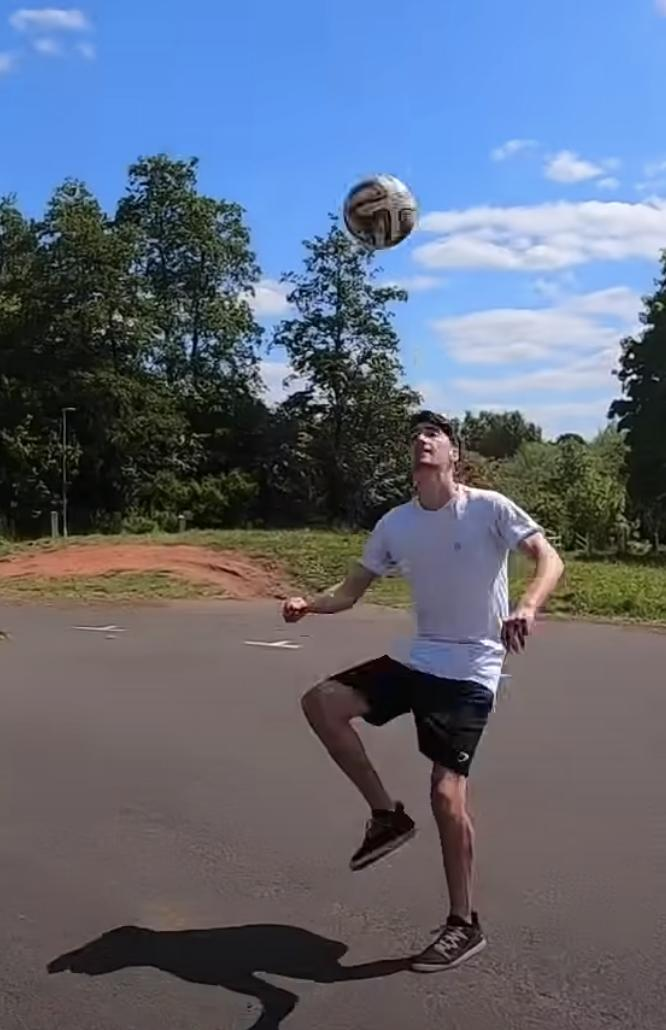ball: (341, 173, 417, 250)
foot: (349, 800, 418, 872), (409, 913, 488, 972)
person: (283, 408, 565, 969)
